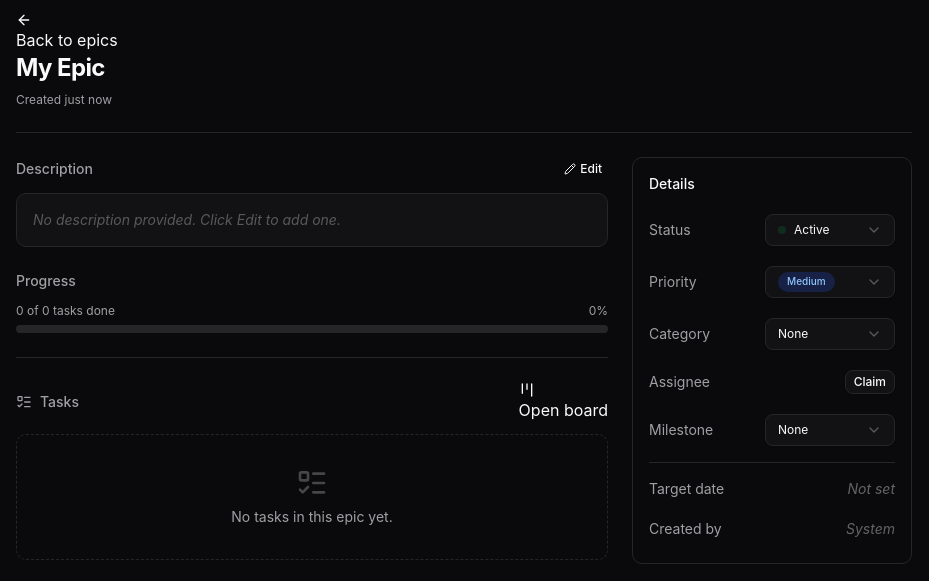
Test: EpicDetailPage — category assign › renders the Category select with None + the project categories
This screenshot has width=929, height=581.
Click the dropdown named "Category" at (830, 334), box [765,318,895,350]
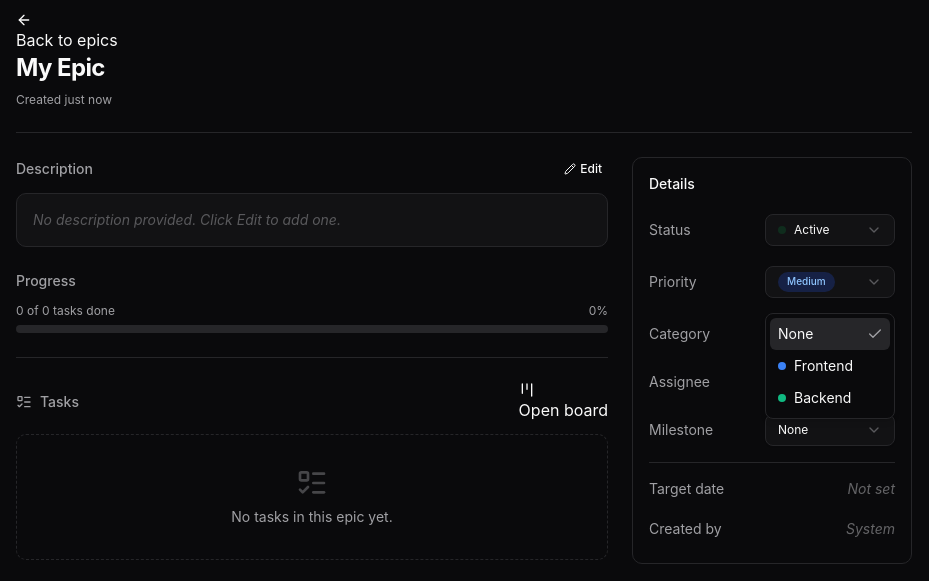
expect the option "Frontend" is shown: met, box [778,357,853,374]
expect the option "Backend" is shown: met, box [778,389,851,406]
expect the option "None" is shown: met, box [770,318,890,350]
